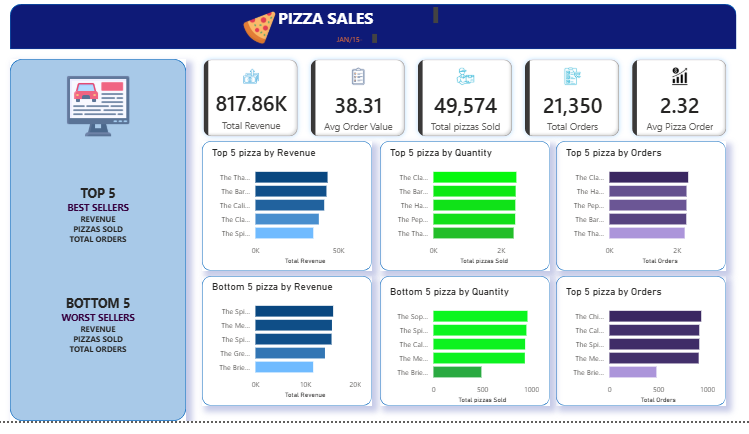

What the dashboard file says about the page in this screenshot:
{"tool":"powerbi","page":{"name":"DASHBOARD 2","canvas":[1280,720],"ordinal":1},"visuals":[{"type":"cardVisual","fields":{"Data":["pizza_sales.Total Revenue","pizza_sales.Avg Order Value","pizza_sales.Total pizzas Sold","pizza_sales.Total Orders","pizza_sales.Avg Pizza Order"]},"box":[337.6,97.1,911.2,161.3],"z":0},{"type":"shape","box":[28.4,20.9,1220.4,76.2],"z":1000},{"type":"textbox","box":[473.5,20.9,279.3,53.8],"z":2000},{"type":"textbox","box":[555.7,65.7,94.1,31.4],"z":3000},{"type":"image","box":[401.8,26.9,92.6,65.7],"z":4000},{"type":"shape","box":[28.4,112,295.8,608],"z":5000},{"type":"textbox","box":[63.8,283.9,225.1,399.8],"z":6000},{"type":"shape","box":[945.6,251,285.3,218.1],"z":7000},{"type":"shape","box":[649.8,251,285.3,218.1],"z":8000},{"type":"shape","box":[351,251,285.3,218.1],"z":9000},{"type":"shape","box":[945.6,476.5,285.3,218.1],"z":10000},{"type":"shape","box":[649.8,476.5,285.3,218.1],"z":11000},{"type":"shape","box":[351,476.5,285.3,218.1],"z":12000},{"type":"barChart","title":"Top 5 pizza by Revenue ","fields":{"Category":["pizza_sales.pizza_name"],"Y":["pizza_sales.Total Revenue"]},"box":[362.8,258.7,260.4,203.3],"z":13000},{"type":"barChart","title":"Bottom 5 pizza by Revenue ","fields":{"Category":["pizza_sales.pizza_name"],"Y":["pizza_sales.Total Revenue"]},"box":[362.8,483.8,260.4,203.3],"z":14000},{"type":"barChart","title":"Top 5 pizza by Quantity","fields":{"Category":["pizza_sales.pizza_name"],"Y":["pizza_sales.Total pizzas Sold"]},"box":[661.8,258.7,260.4,203.3],"z":15000},{"type":"barChart","title":"Bottom 5 pizza by Quantity","fields":{"Category":["pizza_sales.pizza_name"],"Y":["pizza_sales.Total pizzas Sold"]},"box":[661.8,492.2,260.4,203.3],"z":16000},{"type":"barChart","title":"Top 5 pizza by Orders","fields":{"Category":["pizza_sales.pizza_name"],"Y":["pizza_sales.Total Orders"]},"box":[957.5,258.7,260.4,203.3],"z":17000},{"type":"barChart","title":"Top 5 pizza by Orders","fields":{"Category":["pizza_sales.pizza_name"],"Y":["pizza_sales.Total Orders"]},"box":[957.5,492.2,260.4,203.3],"z":18000},{"type":"image","box":[117.6,132.7,117.6,117.6],"z":19000}]}

Visuals, with their boxes in screenshot pixels (x1, y1, x2, y2), scaled from the page's 1280x720 canvas onto the 749x434 screenshot:
cardVisual - pizza_sales.Total Revenue x pizza_sales.Avg Order Value: Rect(198, 59, 731, 156)
shape: Rect(17, 13, 731, 59)
textbox: Rect(277, 13, 441, 45)
textbox: Rect(325, 40, 380, 59)
image: Rect(235, 16, 289, 56)
shape: Rect(17, 68, 190, 433)
textbox: Rect(37, 171, 169, 412)
shape: Rect(553, 151, 720, 283)
shape: Rect(380, 151, 547, 283)
shape: Rect(205, 151, 372, 283)
shape: Rect(553, 287, 720, 419)
shape: Rect(380, 287, 547, 419)
shape: Rect(205, 287, 372, 419)
"Top 5 pizza by Revenue " barChart: Rect(212, 156, 365, 278)
"Bottom 5 pizza by Revenue " barChart: Rect(212, 292, 365, 414)
"Top 5 pizza by Quantity" barChart: Rect(387, 156, 540, 278)
"Bottom 5 pizza by Quantity" barChart: Rect(387, 297, 540, 419)
"Top 5 pizza by Orders" barChart: Rect(560, 156, 713, 278)
"Top 5 pizza by Orders" barChart: Rect(560, 297, 713, 419)
image: Rect(69, 80, 138, 151)
